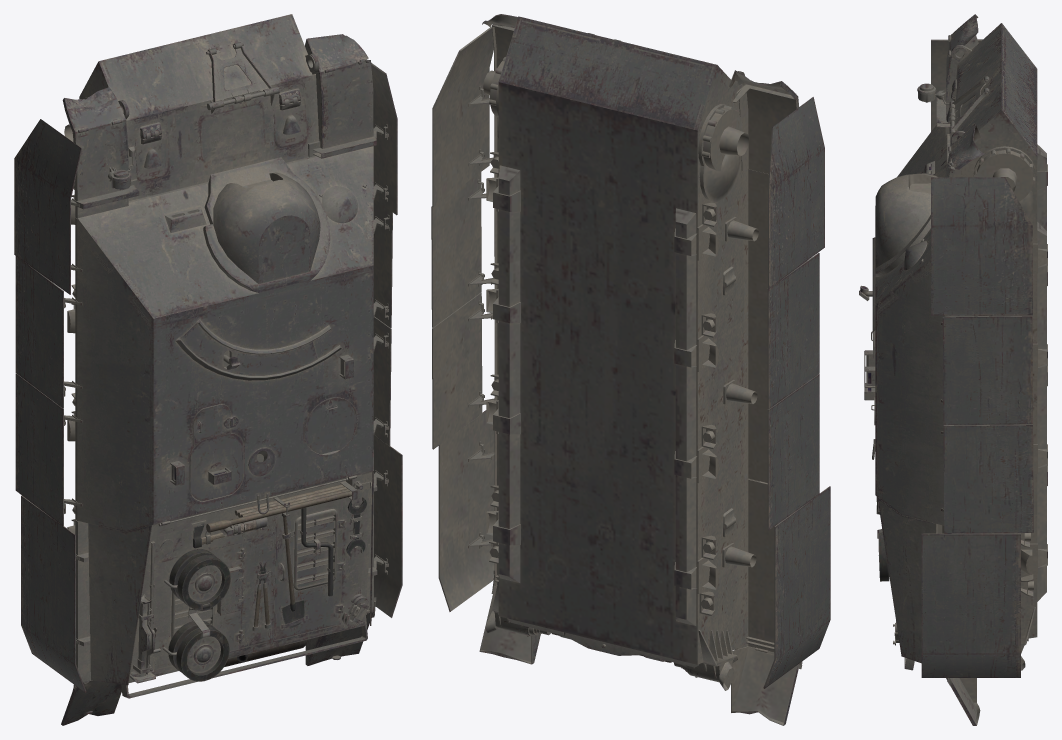
The model's file is Hull.glb.
3 renders of one model, left to right at view 1: azimuth 30°, elevation 25°; view 2: azimuth 150°, elevation 25°; view 3: azimuth 270°, elevation 25°, orthographic. The views are drawn at different scales.
Visible parts, largest first — view 1: set_0_group_0; view 2: set_0_group_0; view 3: set_0_group_0.
Boxes of the visible parts, x1,y1,x2,y2 form: set_0_group_0: (14, 14, 402, 725); set_0_group_0: (431, 14, 830, 725); set_0_group_0: (859, 14, 1047, 725).
Size of the model in its own units: 3.19 by 5.92 by 1.71.
Materials: 1 (1 with a texture image).
